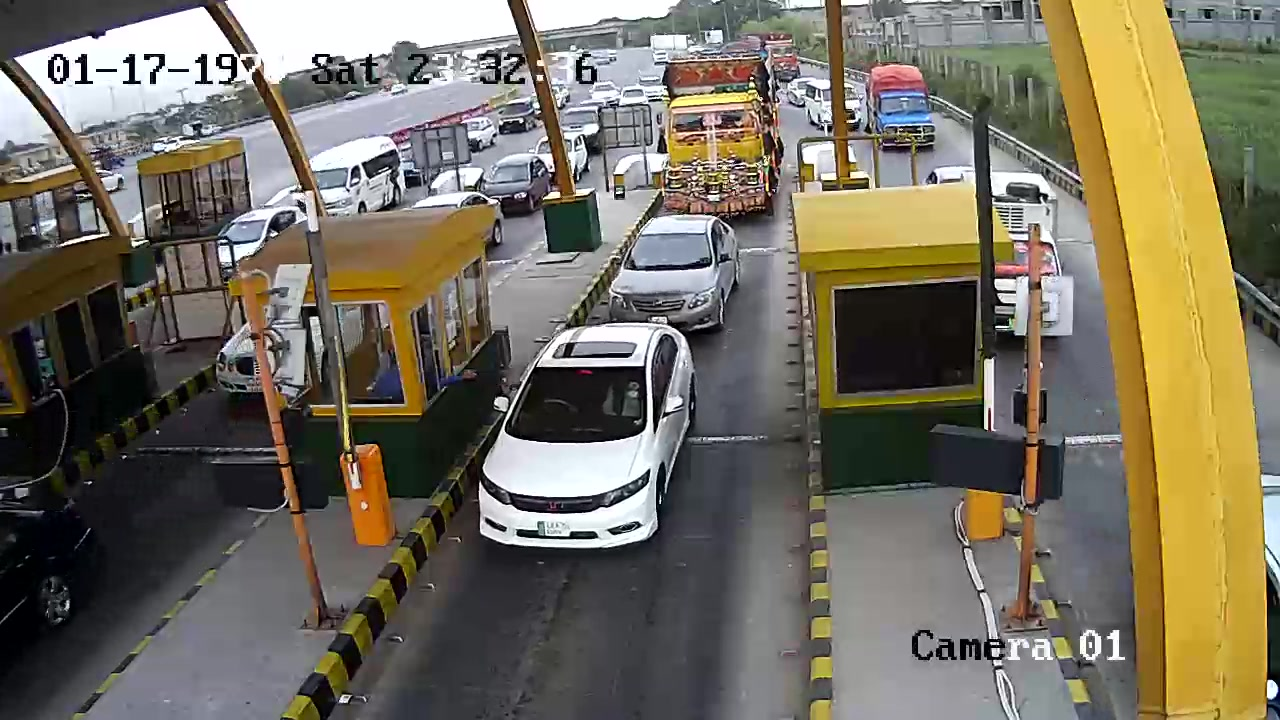F1: (469, 321, 720, 561)
